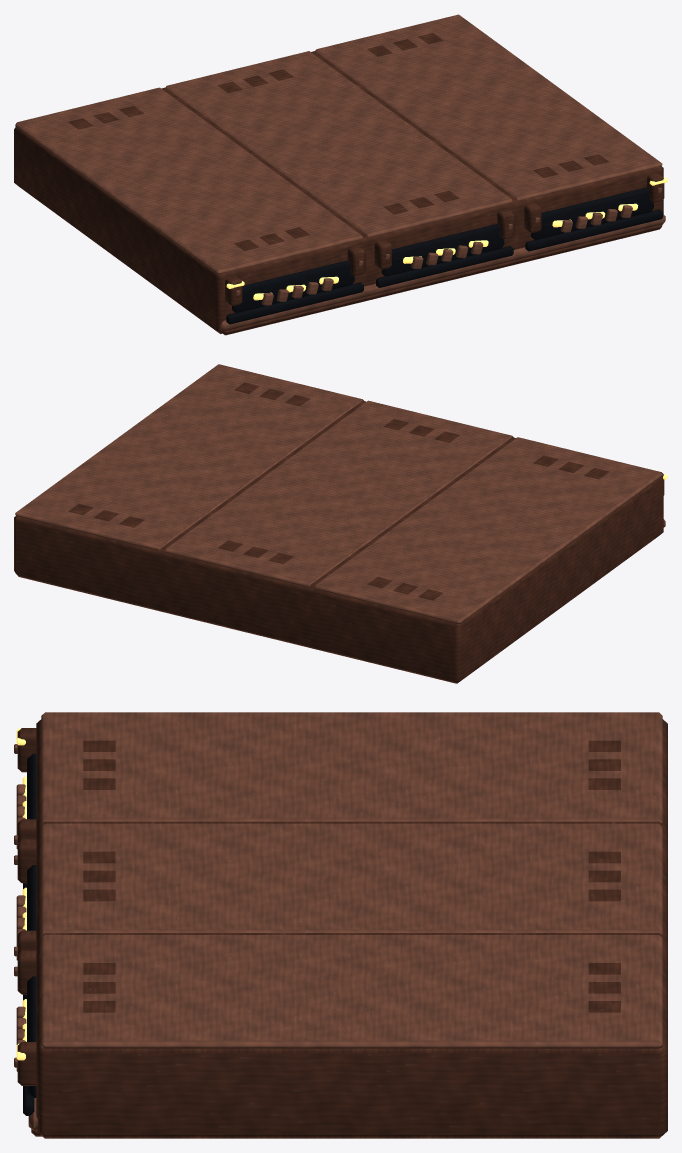
File: scrapyard_expanse_deck.glb
3 views of the same model, one above another, from view 1: azimuth 30°, elevation 25°; view 2: azimuth 150°, elevation 25°; view 3: azimuth 270°, elevation 25° (orthographic). The views are drawn at different scales.
Visible parts, largest first — view 1: scrapyard_expanse_deck - scrapyard_expanse trim, scrapyard_expanse_deck - scrapyard_expanse panels, scrapyard_expanse_deck - Recessed iron, scrapyard_expanse_deck - scrapyard_expanse accents; view 2: scrapyard_expanse_deck - scrapyard_expanse trim, scrapyard_expanse_deck - scrapyard_expanse panels; view 3: scrapyard_expanse_deck - scrapyard_expanse trim, scrapyard_expanse_deck - scrapyard_expanse panels, scrapyard_expanse_deck - Recessed iron.
Part boxes in pixels (<box>): scrapyard_expanse_deck - scrapyard_expanse trim: <box>15,14,665,331</box>; scrapyard_expanse_deck - scrapyard_expanse panels: <box>14,33,664,335</box>; scrapyard_expanse_deck - Recessed iron: <box>226,187,663,324</box>; scrapyard_expanse_deck - scrapyard_expanse accents: <box>226,177,667,300</box>; scrapyard_expanse_deck - scrapyard_expanse trim: <box>15,364,665,624</box>; scrapyard_expanse_deck - scrapyard_expanse panels: <box>14,382,664,683</box>; scrapyard_expanse_deck - scrapyard_expanse trim: <box>14,712,662,1130</box>; scrapyard_expanse_deck - scrapyard_expanse panels: <box>17,719,667,1138</box>; scrapyard_expanse_deck - Recessed iron: <box>23,753,36,1115</box>.
Bounding box in the file's own units: 5.99 × 0.8325 × 4.97.
Materials: 4 (3 with a texture image).
